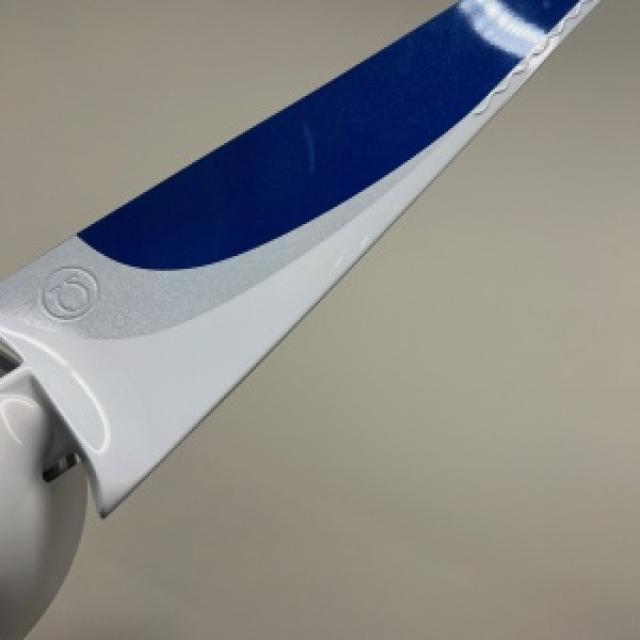healthy: (26, 0, 638, 638)
